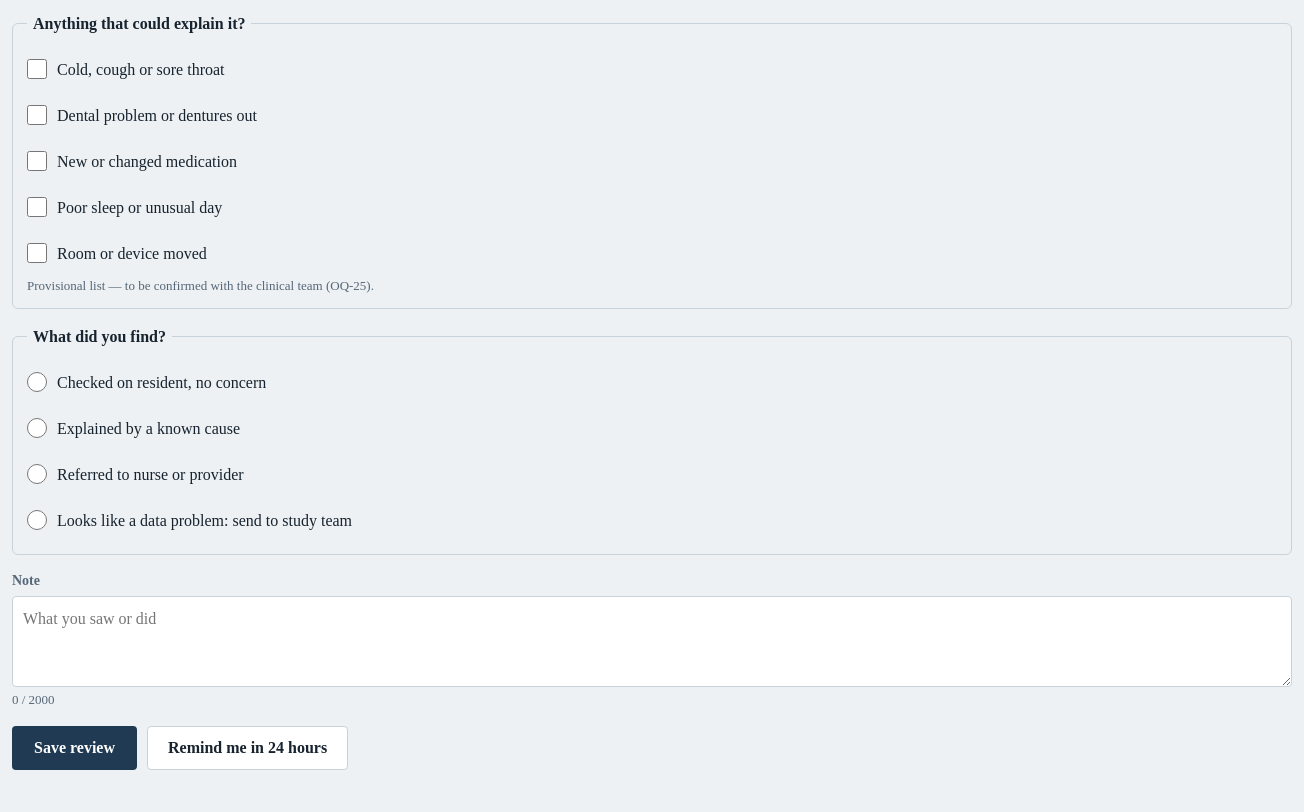
Test: AlertReviewForm › keeps the choices and shows the error above the buttons when the save fails
The image size is (1304, 812).
What coordinates should you click on to do the following:
click the radio button labelled "Referred to nurse or provider"
I would click on:
 (37, 474)
Its box is x1=27 y1=464 x2=47 y2=484.
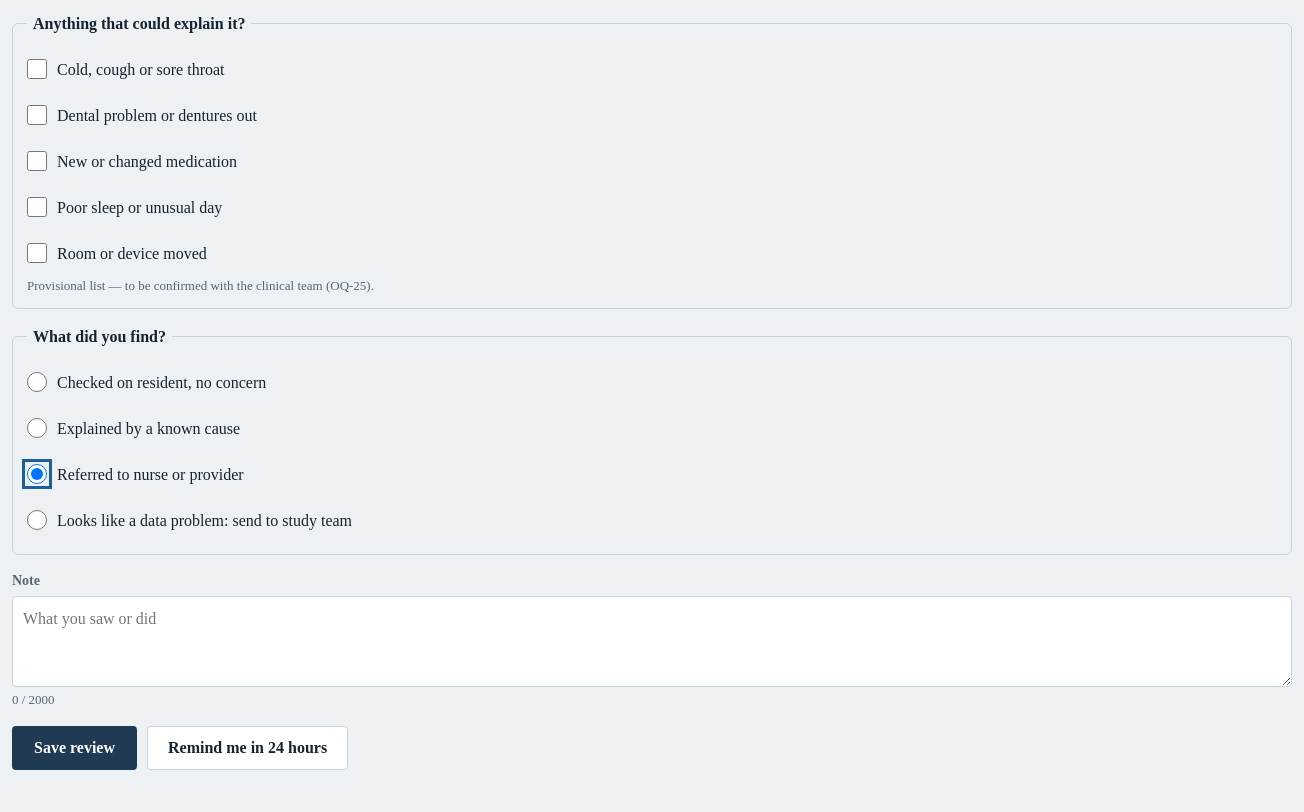
What coordinates should you click on to do the following:
click the button "Save review"
I would click on:
 (74, 748)
Its box is x1=12 y1=726 x2=137 y2=770.
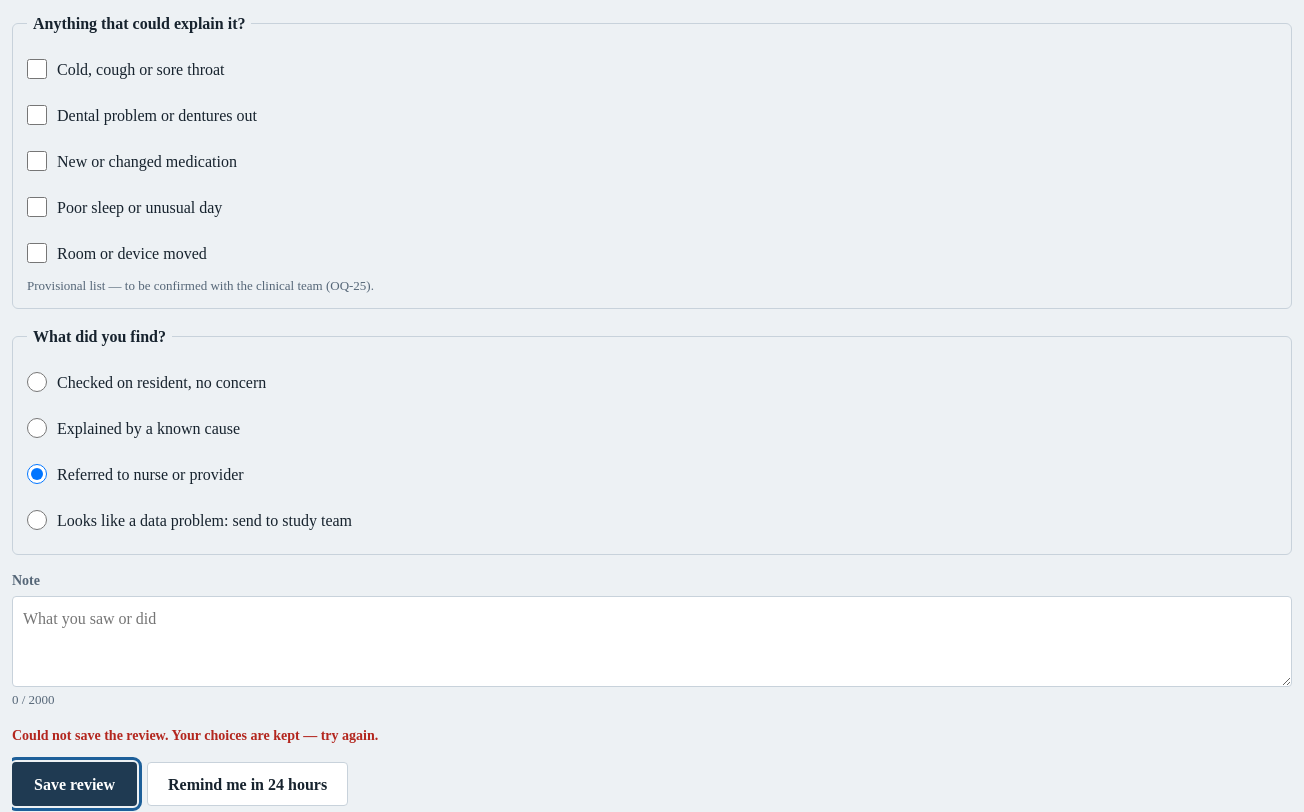
Result: the radio button labelled "Referred to nurse or provider" is checked at x1=27 y1=464 x2=47 y2=484
Result: the text "Could not save the review. Your choices are kept — try again." is shown at x1=12 y1=728 x2=378 y2=743
